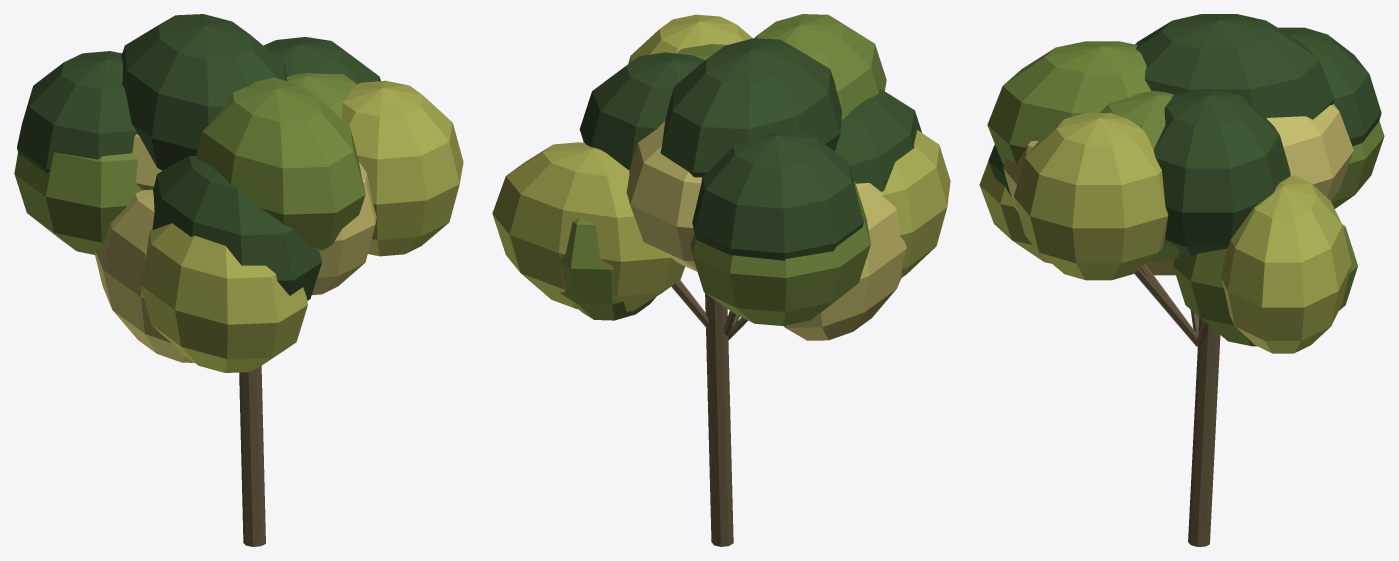
The model's file is Forest_BacklitTree_05.obj.
3 views of the same model, side by side, from view 1: azimuth 30°, elevation 25°; view 2: azimuth 150°, elevation 25°; view 3: azimuth 270°, elevation 25° (orthographic). The views are drawn at different scales.
Parts seen in each view (by area): view 1: Forest_BacklitTree_05; view 2: Forest_BacklitTree_05; view 3: Forest_BacklitTree_05.
Boxes of the visible parts, left/top/right/bottom form: Forest_BacklitTree_05: left=14, top=14, right=463, bottom=546; Forest_BacklitTree_05: left=492, top=14, right=950, bottom=546; Forest_BacklitTree_05: left=979, top=14, right=1384, bottom=546.
Size of the model in its own units: 6.09 by 8.36 by 6.1.
Materials: 1 (1 with a texture image).
